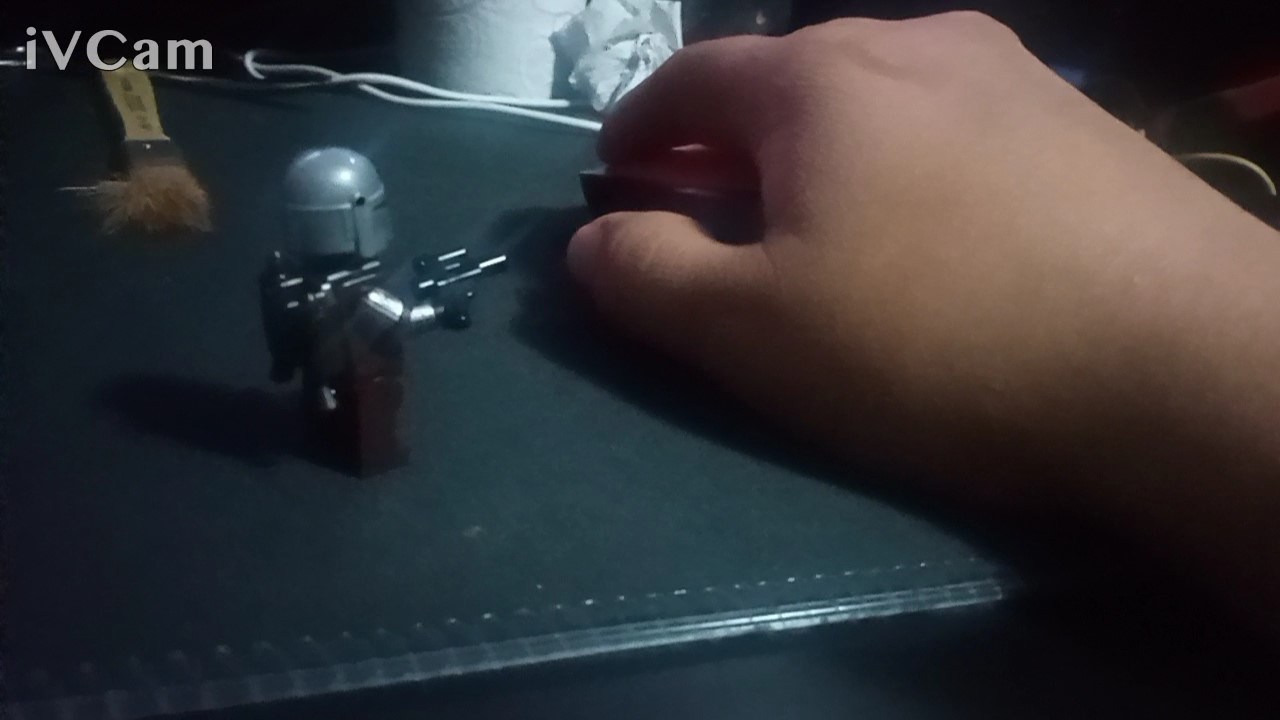mandalorian: (237, 133, 520, 491)
